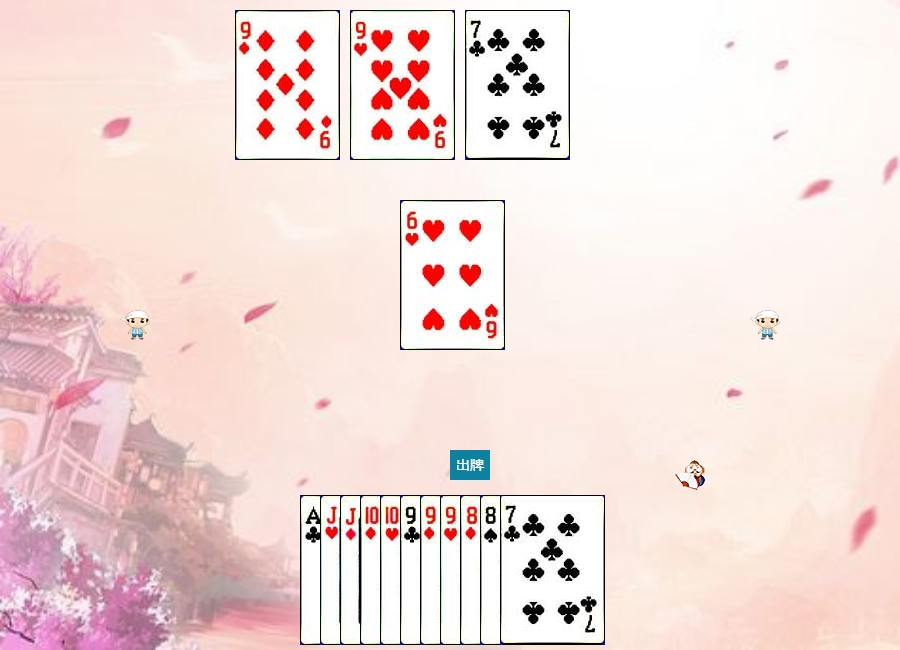10~1: (360, 495, 465, 645)
10~3: (380, 495, 485, 645)
11~1: (340, 495, 445, 645)
11~3: (320, 495, 425, 645)
14~2: (300, 495, 405, 645)
6~3: (400, 200, 505, 350)
7~2: (465, 10, 570, 160), (500, 495, 605, 645)
8~1: (460, 495, 565, 645)
8~4: (480, 495, 585, 645)
9~1: (235, 10, 340, 160), (420, 495, 525, 645)
9~2: (400, 495, 505, 645)
9~3: (350, 10, 455, 160), (440, 495, 545, 645)
